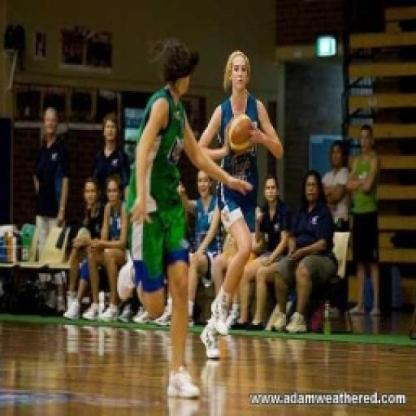basketball: (221, 110, 262, 157)
